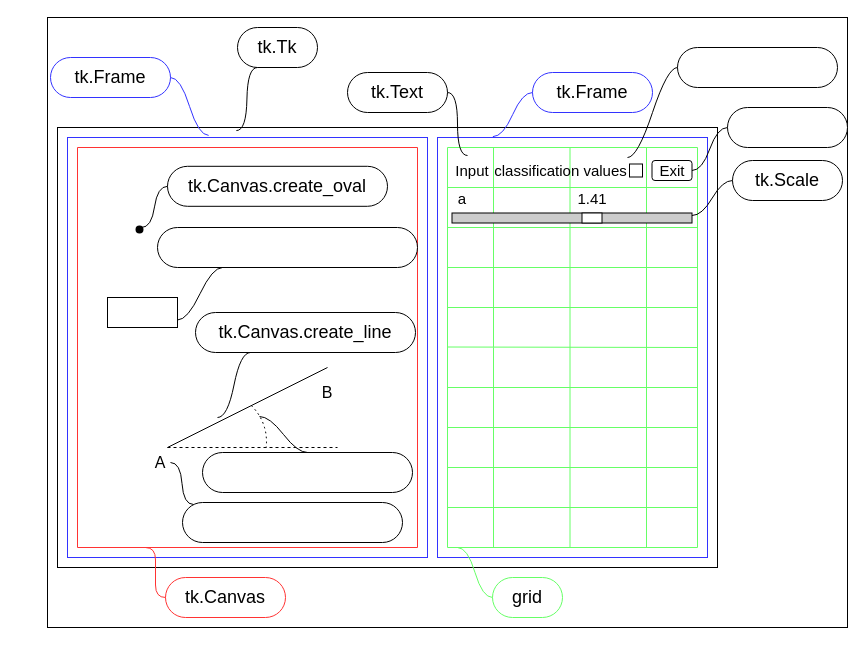
This 865x645 diagram has some shape labels left out. Here are the shapes that lost their labels. From the top down, the centre of each, then its label:
At pixel 757 67: "tk.Checkbutton".
At pixel 787 127: "tk.Button".
At pixel 287 247: "tk.Canvas.create_rectangle".
At pixel 307 472: "tk.Canvas.create_arc".
At pixel 292 522: "tk.Canvas.create_text".
